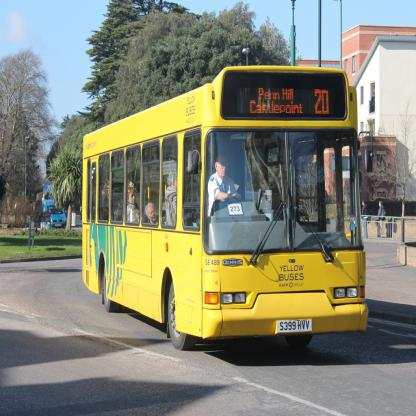Bus: (82, 66, 374, 350)
